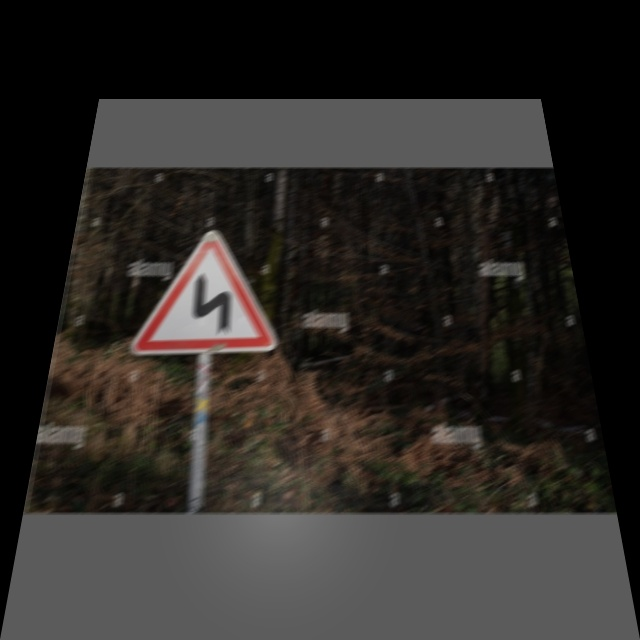Left_Reverse_Bend: (123, 223, 283, 359)
